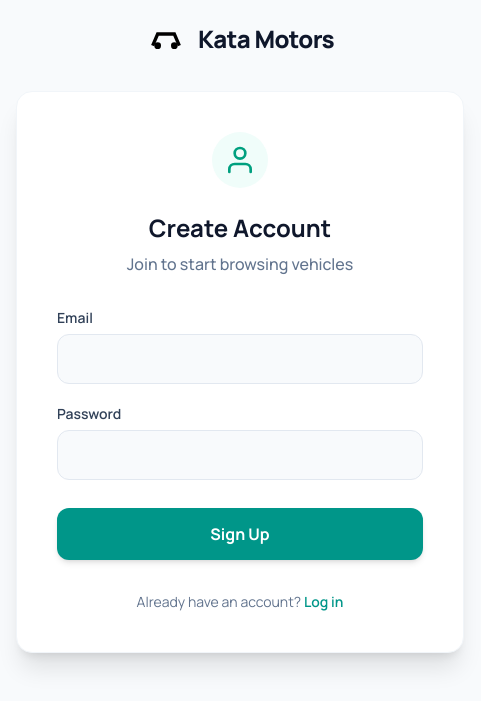
Test: Register › shows an error message and does not throw when registration fails
The width and height of the screenshot is (481, 701).
Type "a@b.com" into the field labelled "Email" at x=240, y=359, box [57,334,423,384]
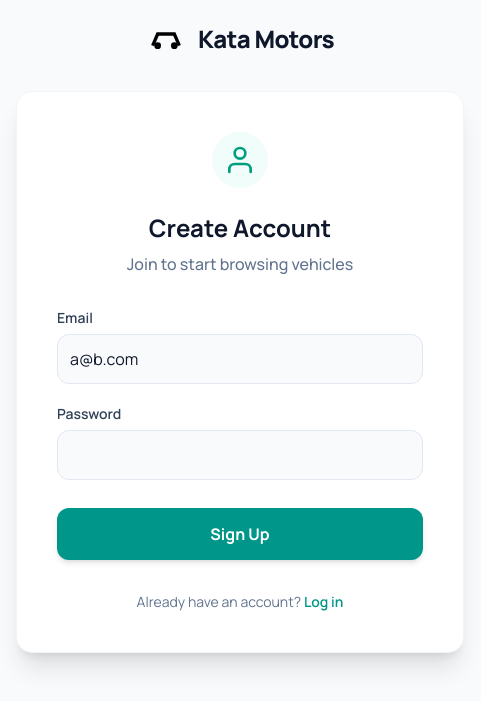
Type "secret123" into the password field labelled "Password" at x=240, y=455, box [57,430,423,480]
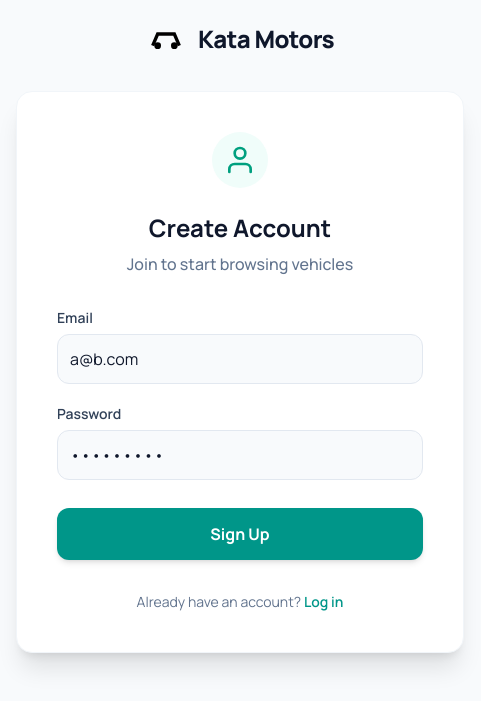
Click the button "Sign Up" at x=240, y=534, box [57,508,423,560]
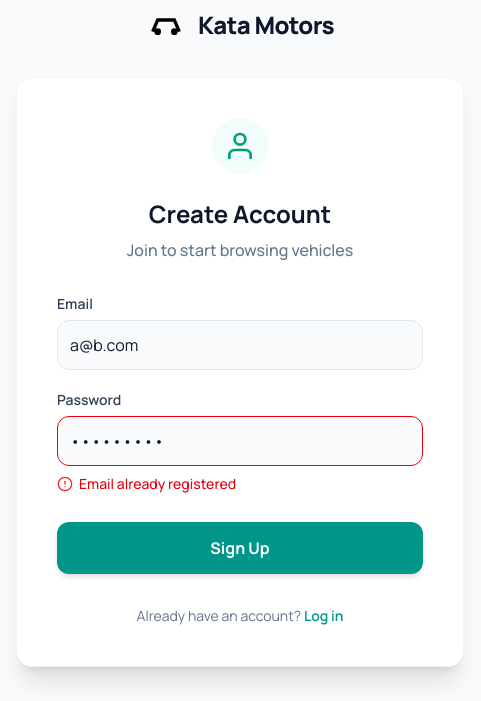
Result: the message reads "Email already registered" at [79,474,236,493]
